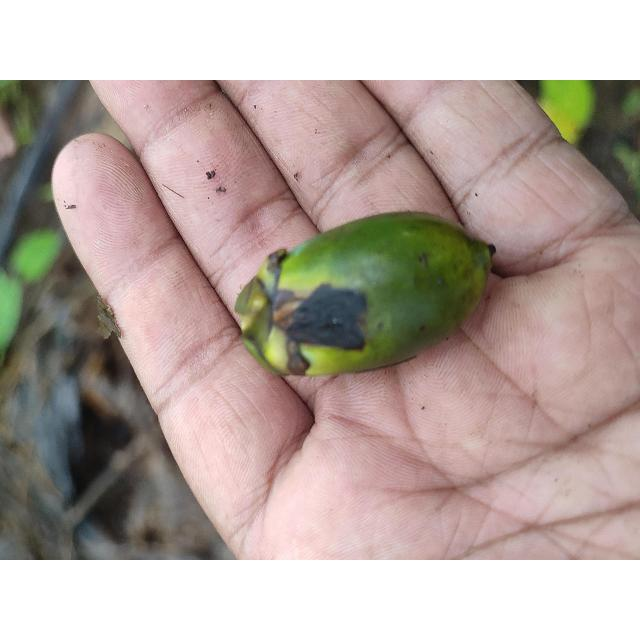good: (230, 212, 495, 378)
